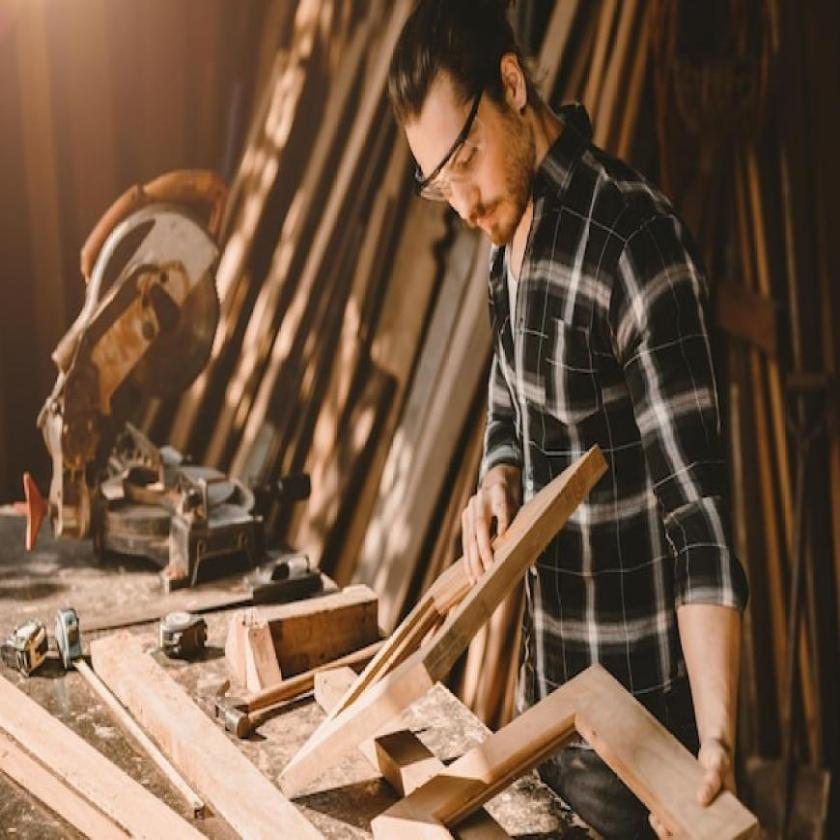Sin_casco: (387, 1, 547, 260)
